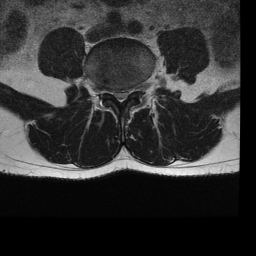CCS_severe_stenosis: (118, 84, 124, 109)
LFS_stenosis: (130, 80, 136, 98)
LLS_stenosis: (123, 84, 130, 104)
RFS_stenosis: (104, 80, 111, 98)
RLS_stenosis: (112, 84, 118, 103)
